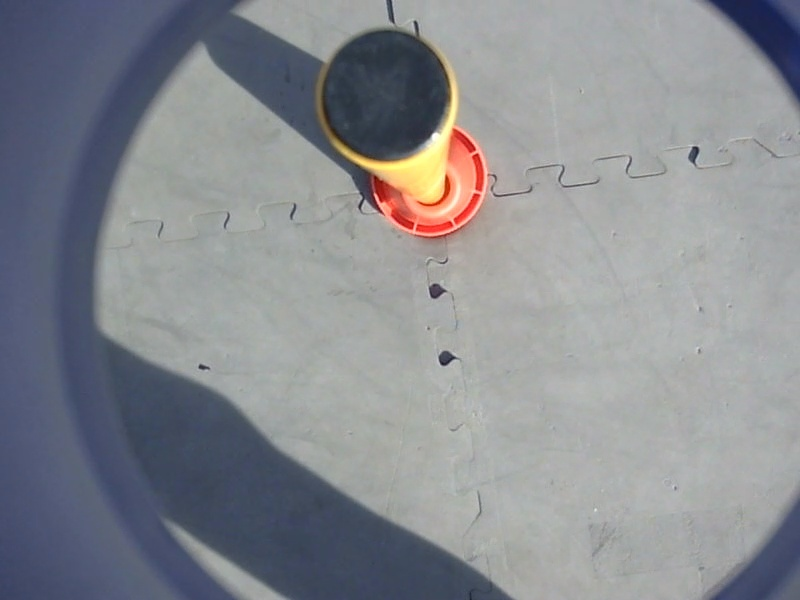tip: (305, 22, 466, 177)
